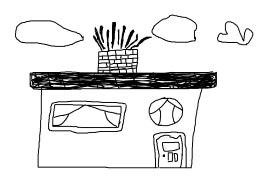clouds: (10, 11, 89, 52), (148, 9, 202, 48), (214, 13, 257, 52)
door: (149, 127, 194, 172)
open_window: (45, 96, 131, 137), (142, 94, 194, 129)
shaded_roof: (16, 64, 226, 94)
smoking_chimney: (87, 8, 153, 76)
wall: (30, 86, 203, 172)
